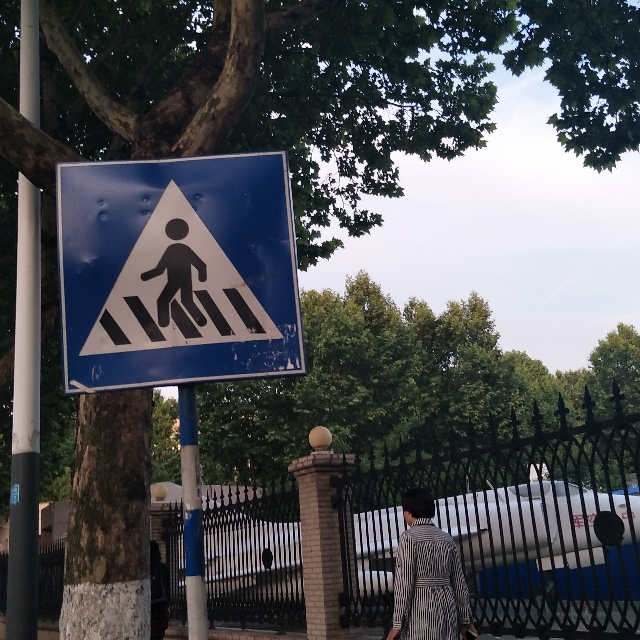crosswalk: (53, 149, 307, 392)
